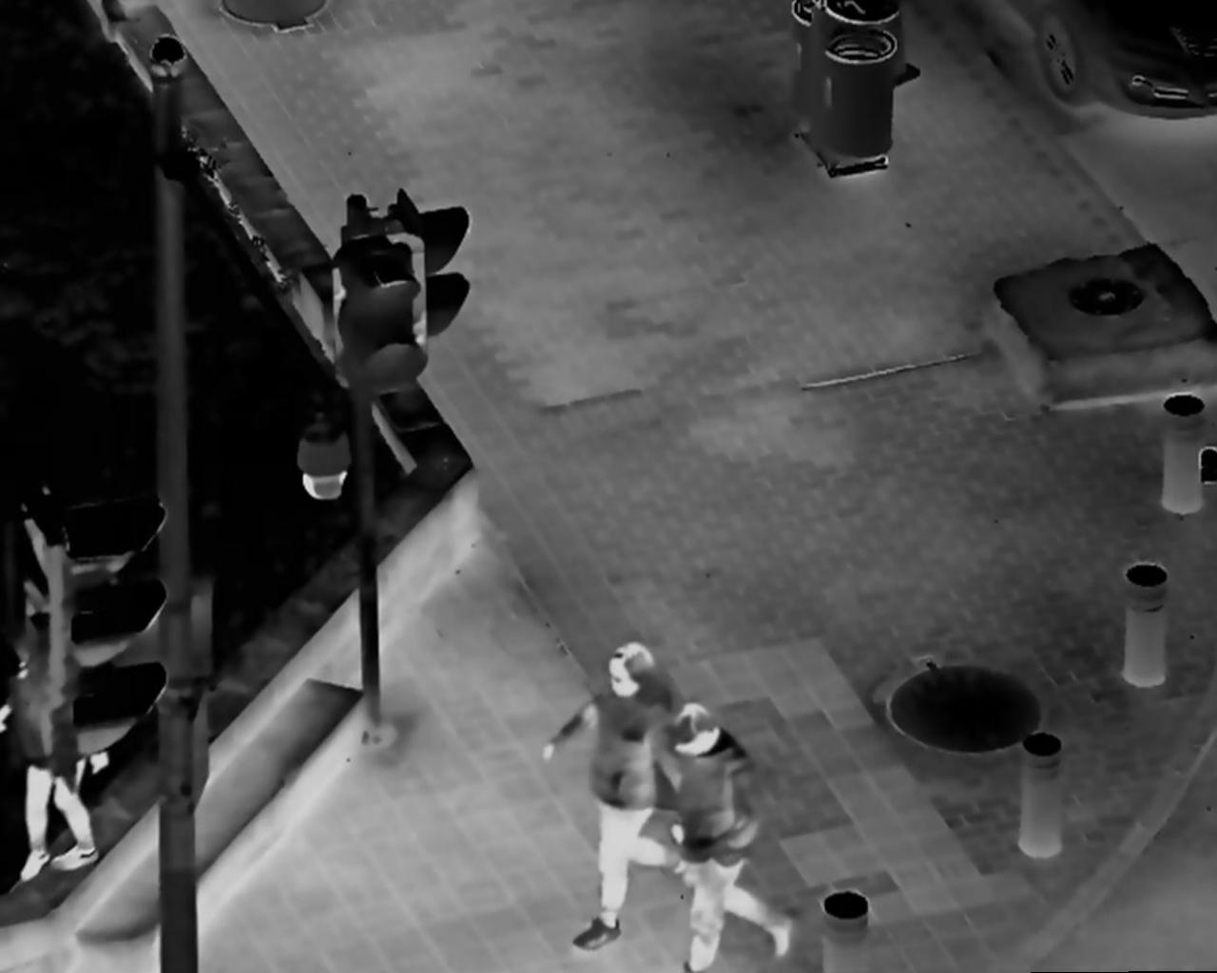person: (534, 639, 685, 949), (643, 697, 803, 973), (5, 636, 112, 879)
